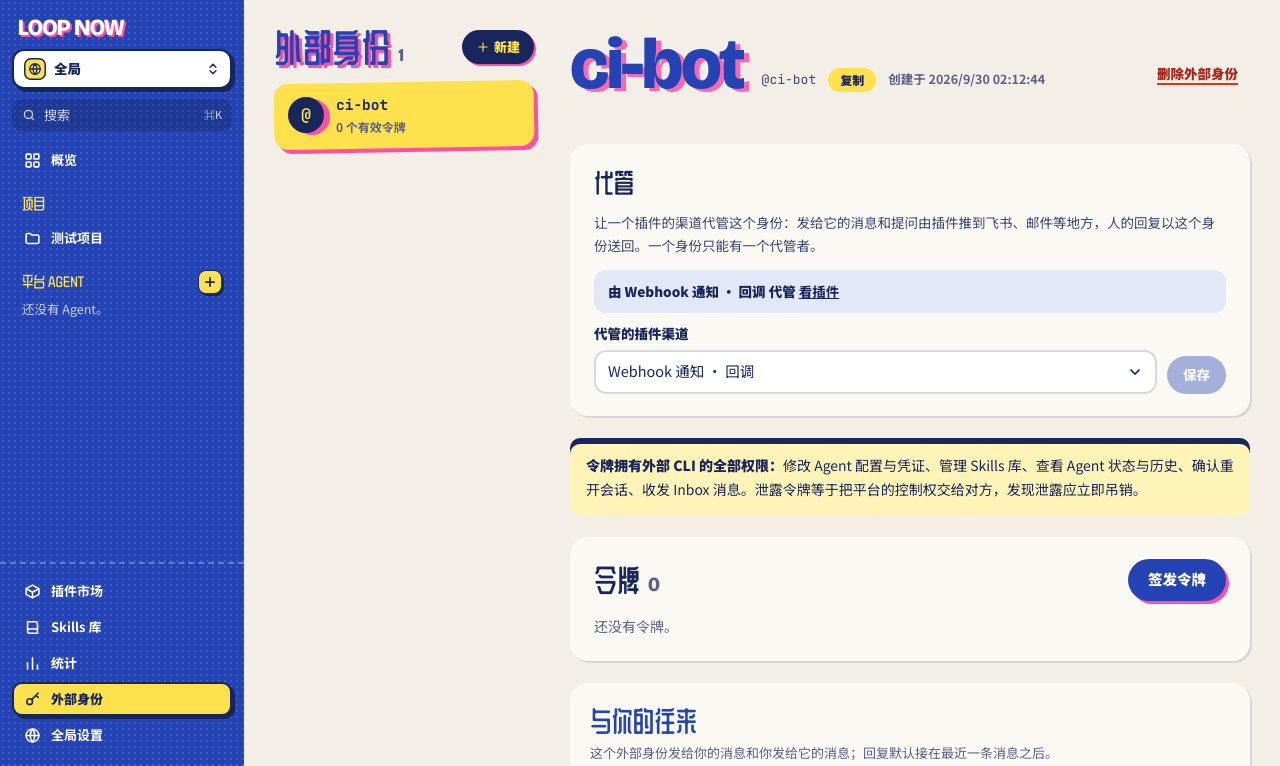
Test: 外部身份的代管 › 改回不代管：保存 null
Select "不代管" in the dropdown labelled "代管的插件渠道" at (876, 372), box x1=594 y1=350 x2=1157 y2=394
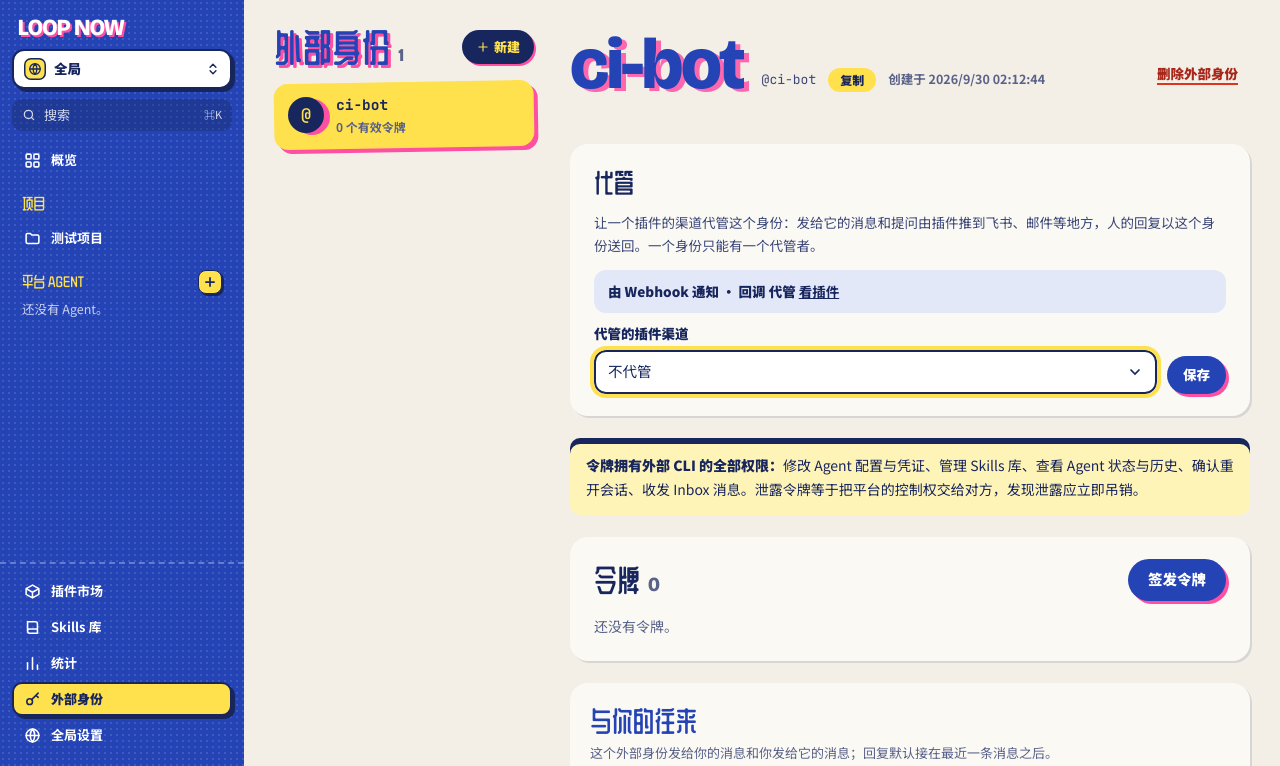
Click the button "保存".
click(1196, 375)  # box x1=1167 y1=356 x2=1226 y2=394
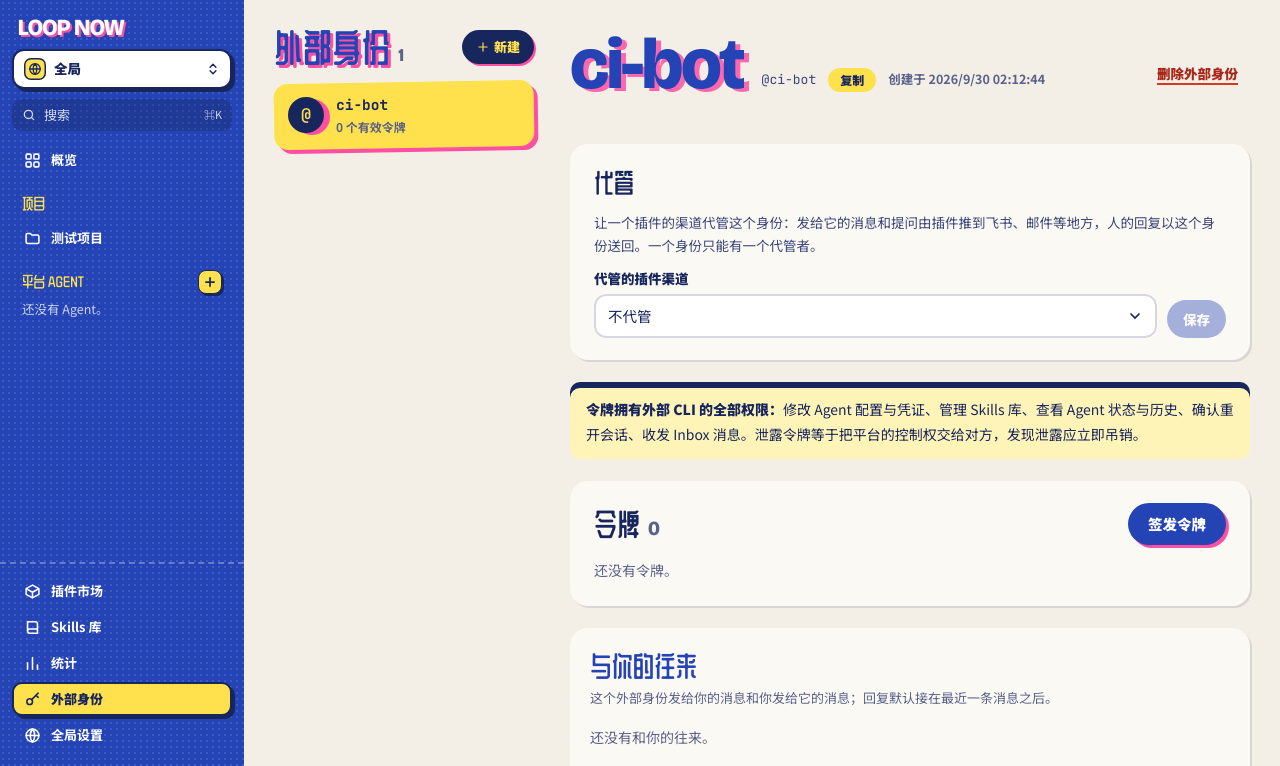
Result: the message "由 Webhook 通知 · 回调 代管 看插件" is gone
